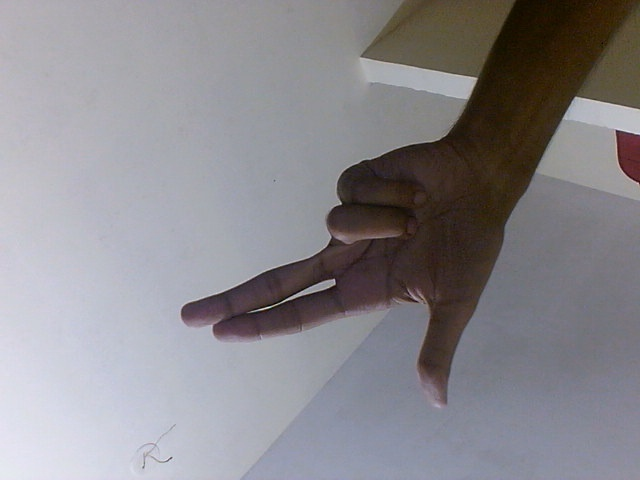hand: (174, 134, 517, 414)
